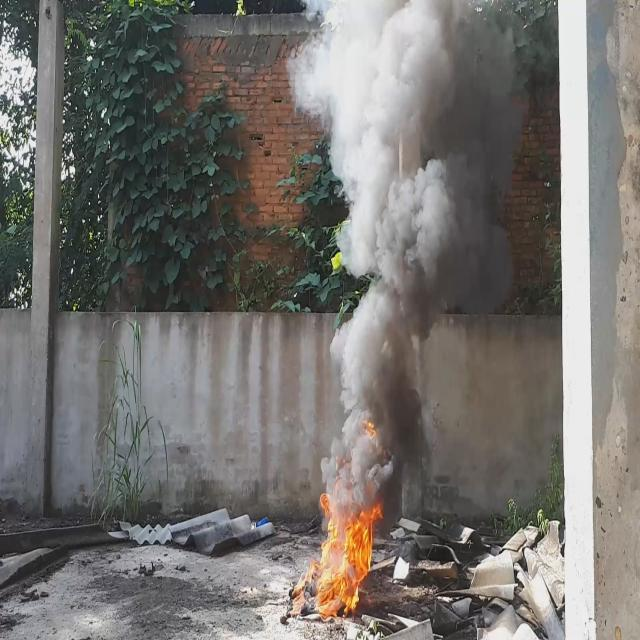Fire: (316, 486, 386, 616)
Smoke: (286, 0, 528, 500)
